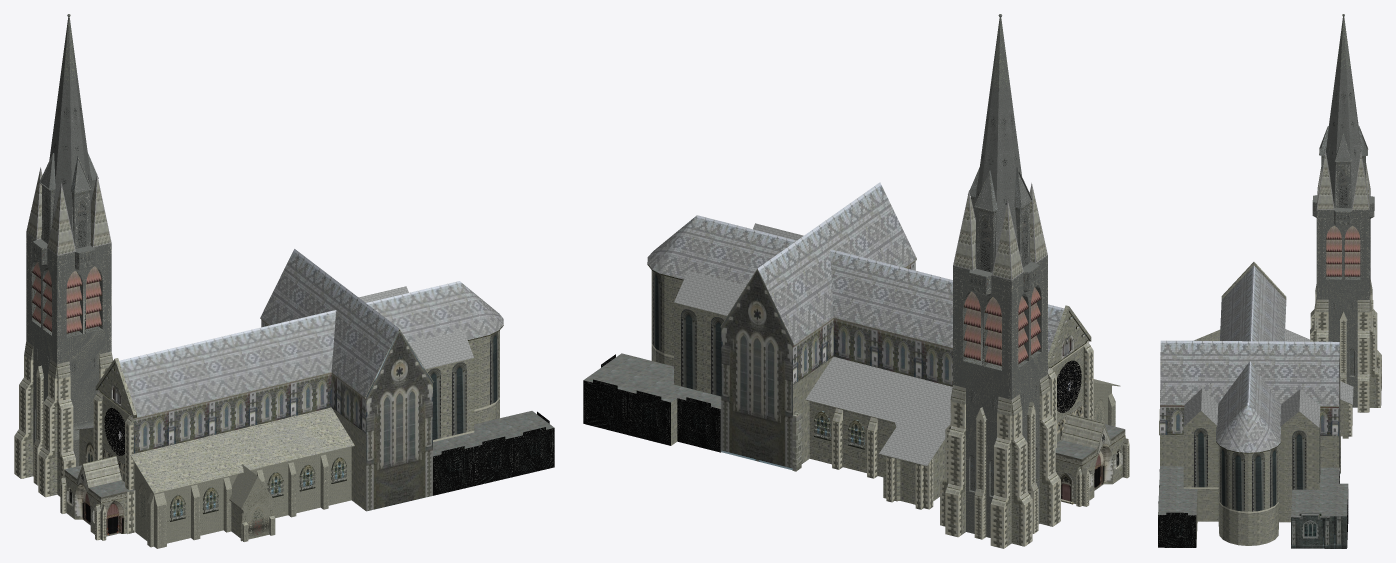
Rendered from christchurch cathedral.glb.
The picture shows the model from 3 angles, left to right: view 1: azimuth 30°, elevation 25°; view 2: azimuth 150°, elevation 25°; view 3: azimuth 270°, elevation 25°; orthographic projection. The views are drawn at different scales.
Visible parts, largest first — view 1: FrontSide.047, BackSide.015, BackSide.012, FrontSide.044, FrontSide.012, FrontSide.014, FrontSide.016, BackSide.016, FrontSide.024, BackSide.059, BackSide.055, BackSide.060 (+8 smaller); view 2: FrontSide.047, BackSide.012, FrontSide.034, FrontSide.012, FrontSide.022, FrontSide.014, FrontSide.016, BackSide.049, BackSide.044, BackSide.048, FrontSide.030, FrontSide.007 (+8 smaller); view 3: FrontSide.047, BackSide.012, FrontSide.012, FrontSide.019, FrontSide.021, BackSide, FrontSide.022, FrontSide.034, BackSide.019, BackSide.013, FrontSide.010, FrontSide.013 (+3 smaller).
Part boxes in pixels (left/top/right/bottom): FrontSide.047: left=93, top=249, right=554, bottom=511; BackSide.015: left=130, top=407, right=354, bottom=548; BackSide.012: left=26, top=17, right=111, bottom=476; FrontSide.044: left=132, top=409, right=353, bottom=546; FrontSide.012: left=26, top=20, right=111, bottom=466; FrontSide.014: left=60, top=456, right=135, bottom=540; FrontSide.016: left=14, top=341, right=57, bottom=497; BackSide.016: left=229, top=464, right=275, bottom=541; FrontSide.024: left=57, top=351, right=112, bottom=496; BackSide.059: left=473, top=436, right=513, bottom=486; BackSide.055: left=514, top=427, right=554, bottom=476; BackSide.060: left=433, top=446, right=473, bottom=495; FrontSide.047: left=584, top=182, right=1093, bottom=470; BackSide.012: left=953, top=17, right=1047, bottom=537; FrontSide.034: left=805, top=356, right=1050, bottom=509; FrontSide.012: left=953, top=18, right=1047, bottom=537; FrontSide.022: left=945, top=385, right=1011, bottom=548; FrontSide.014: left=1055, top=413, right=1129, bottom=506; FrontSide.016: left=1011, top=374, right=1060, bottom=546; BackSide.049: left=583, top=379, right=627, bottom=434; BackSide.044: left=677, top=397, right=720, bottom=452; BackSide.048: left=627, top=390, right=670, bottom=445; FrontSide.030: left=974, top=407, right=986, bottom=539; FrontSide.007: left=992, top=200, right=1023, bottom=280; FrontSide.047: left=1158, top=262, right=1348, bottom=548; BackSide.012: left=1316, top=16, right=1370, bottom=407; FrontSide.012: left=1317, top=22, right=1370, bottom=406; FrontSide.019: left=1316, top=299, right=1369, bottom=412; FrontSide.021: left=1291, top=513, right=1329, bottom=548; BackSide: left=1158, top=512, right=1196, bottom=547; FrontSide.022: left=1369, top=279, right=1381, bottom=407; FrontSide.034: left=1284, top=329, right=1353, bottom=438; BackSide.019: left=1344, top=226, right=1360, bottom=276; BackSide.013: left=1326, top=225, right=1341, bottom=276; FrontSide.010: left=1352, top=152, right=1369, bottom=210; FrontSide.013: left=1316, top=151, right=1334, bottom=209.
Bounding box in the file's own units: 70.15 × 73.5 × 39.01.
Materials: 243 (204 with a texture image).
